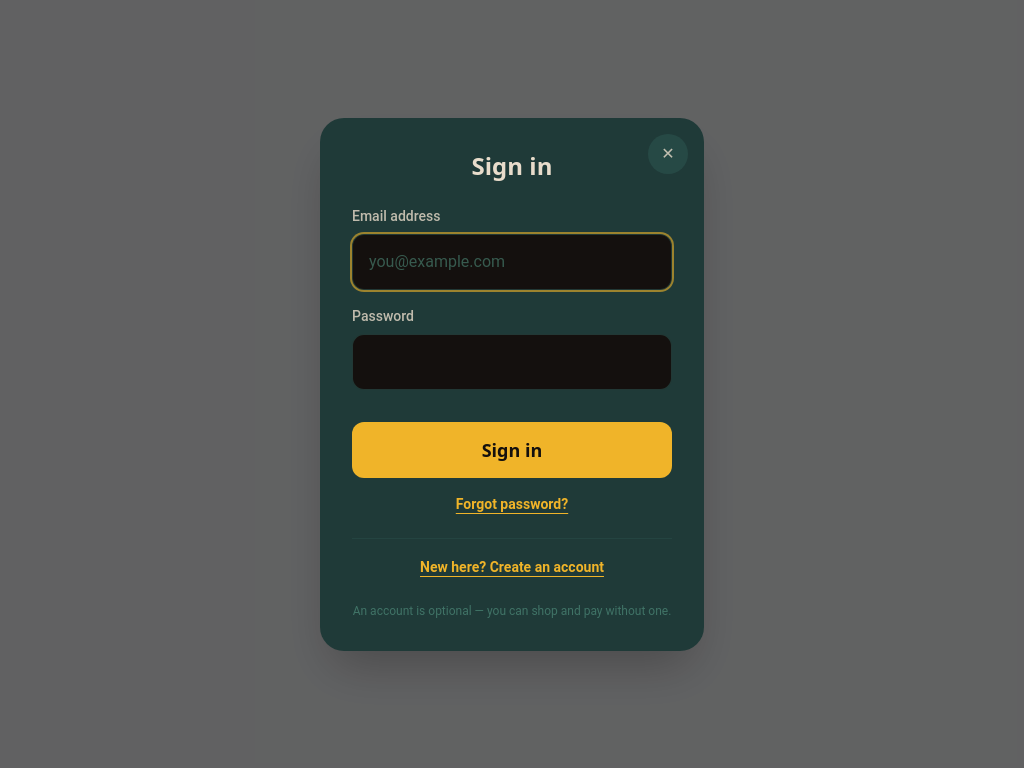
Test case: ShopAccountModalComponent › create account › switches to the sign-up form with the relay-aligned password rule
Click the button "New here? Create an account".
click(512, 566)  # box left=420, top=556, right=604, bottom=576
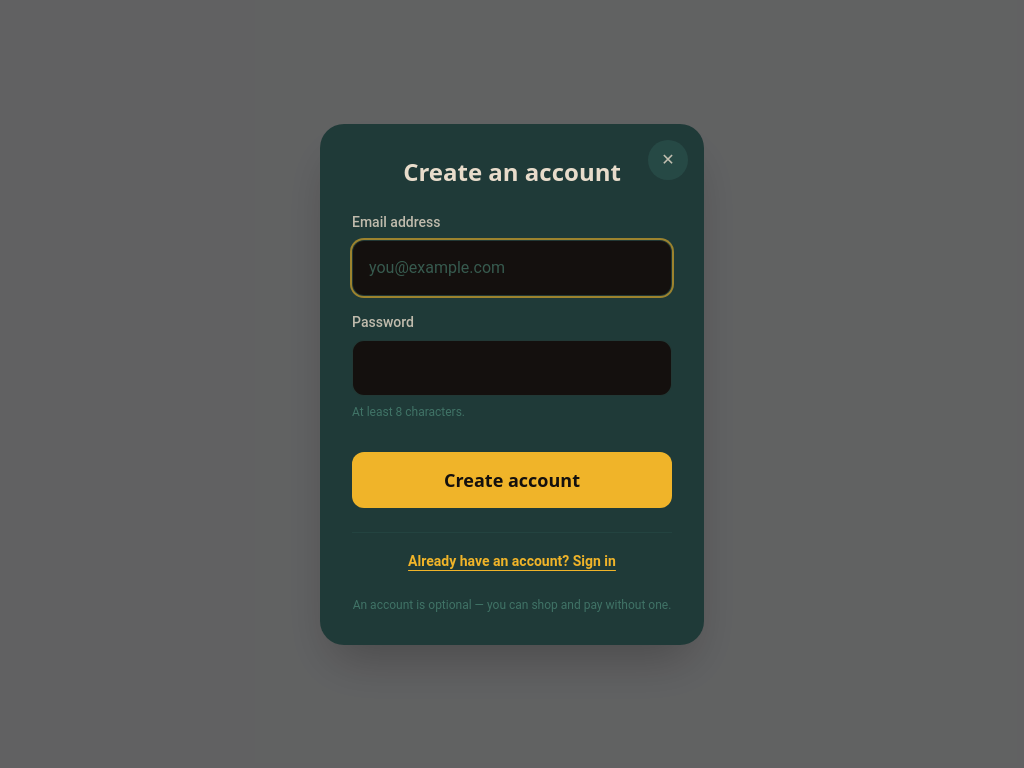
Type "shopper@example.com" into the field labelled "Email address".
click(512, 268); type("shopper@example.com")  # box left=352, top=240, right=672, bottom=296
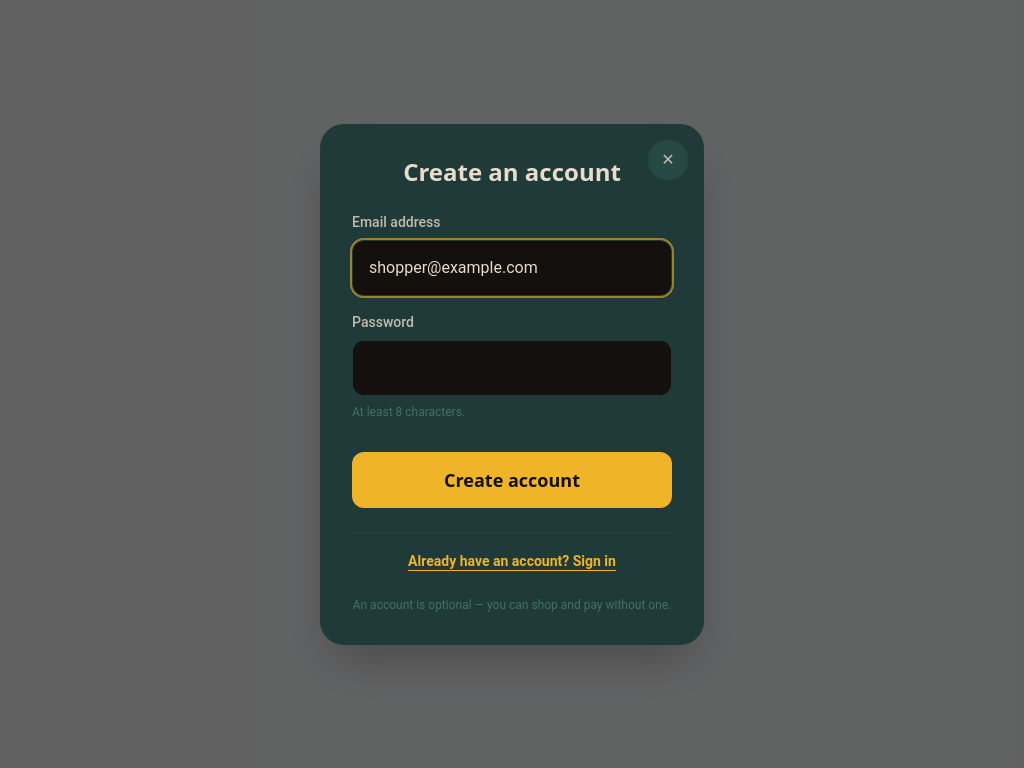
Type "short" into the password field labelled "Password".
click(512, 368); type("short")  # box left=352, top=340, right=672, bottom=396
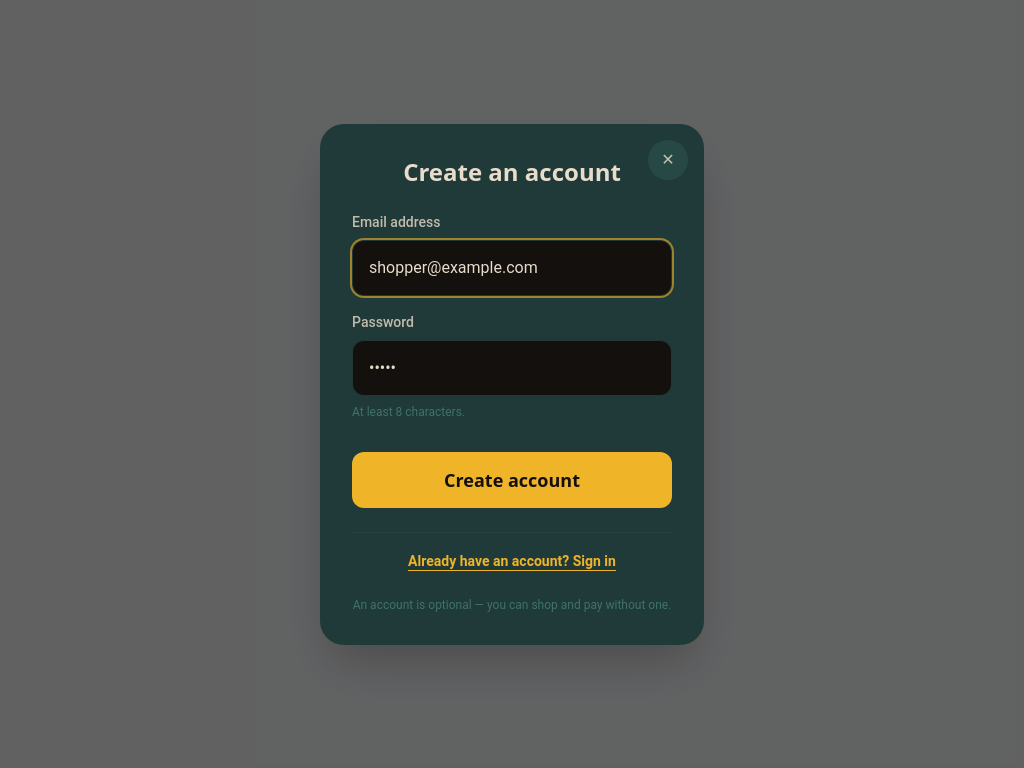
Submit the form, box left=352, top=212, right=672, bottom=508
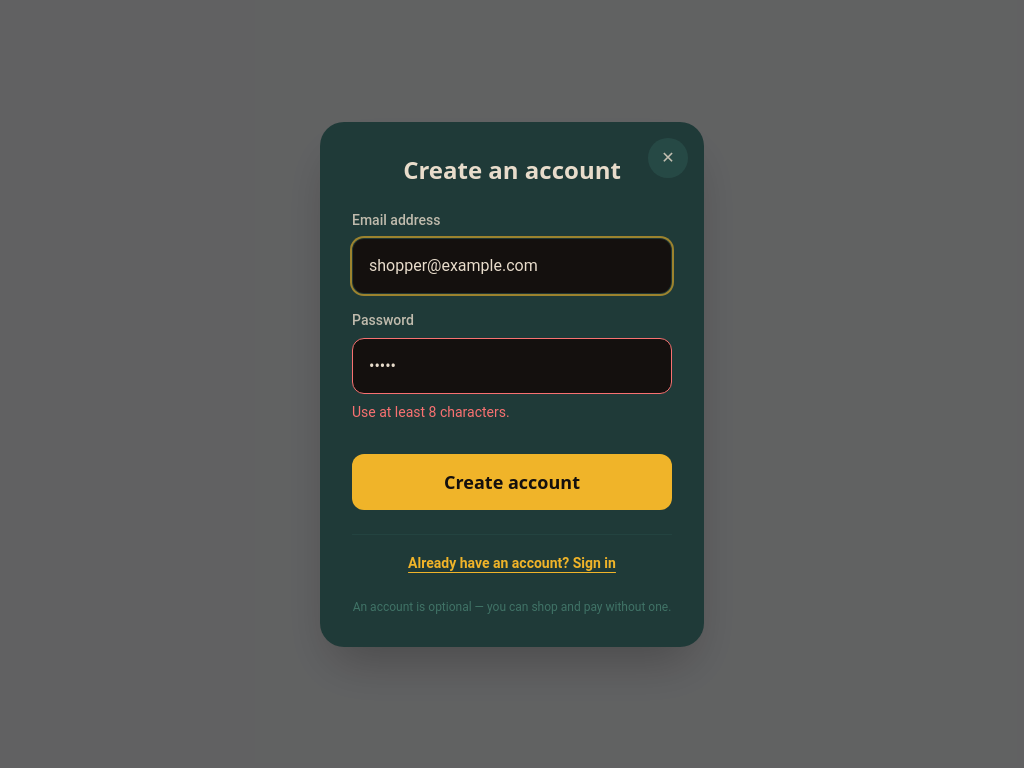
Expected: the text "Use at least 8 characters." is shown, left=352, top=404, right=510, bottom=420
